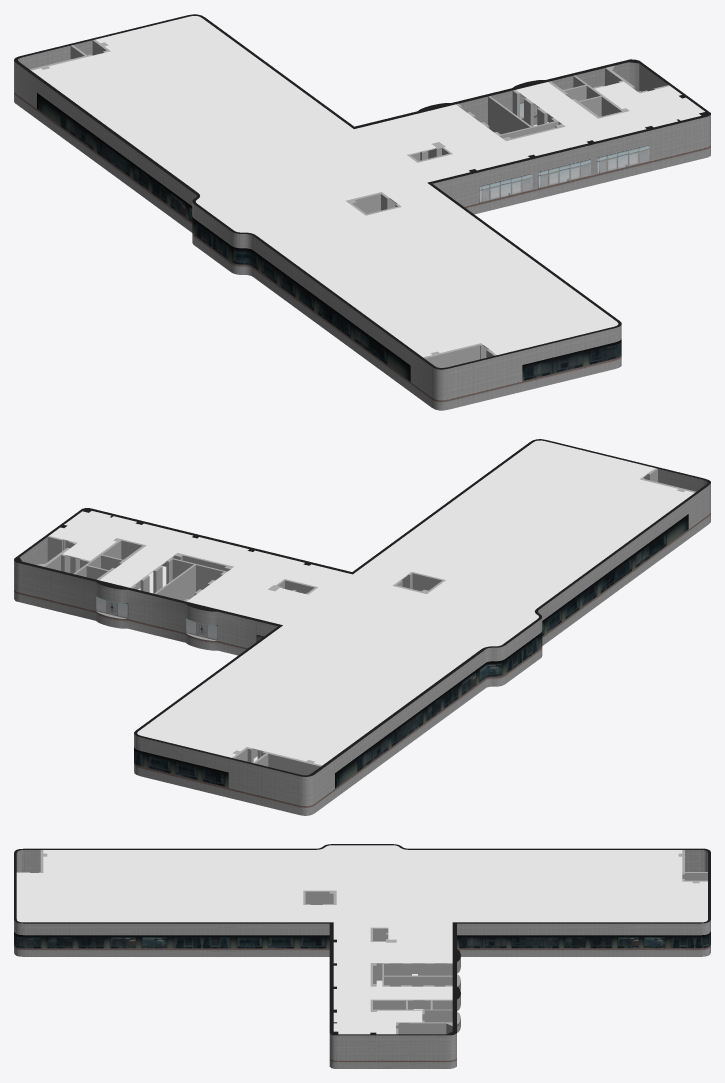
The picture shows the model from 3 angles, top to bottom: view 1: azimuth 30°, elevation 25°; view 2: azimuth 150°, elevation 25°; view 3: azimuth 270°, elevation 25°; orthographic projection. The views are drawn at different scales.
Parts seen in each view (by area): view 1: M_SUNGSIM0001F12F12_ISCL_0000001, M_SUNGSIM0001F12F12_ISWL_0000001, M_SUNGSIM0001F12F12_ISWL_0000002, M_SUNGSIM0001F12F12_ISWD_0000003, M_SUNGSIM0001F12F12_ISWD_0000006, M_SUNGSIM0001F12F12_ISWD_0000005, M_SUNGSIM0001F12F12_ISWD_0000008, M_SUNGSIM0001F12F12_ISWD_0000007; view 2: M_SUNGSIM0001F12F12_ISCL_0000001, M_SUNGSIM0001F12F12_ISWL_0000001, M_SUNGSIM0001F12F12_ISWL_0000002, M_SUNGSIM0001F12F12_ISWD_0000003, M_SUNGSIM0001F12F12_ISWD_0000006; view 3: M_SUNGSIM0001F12F12_ISCL_0000001, M_SUNGSIM0001F12F12_ISWL_0000001, M_SUNGSIM0001F12F12_ISWD_0000006, M_SUNGSIM0001F12F12_ISWL_0000002.
Boxes of the visible parts, box(x1,y1,x2,y2) form: M_SUNGSIM0001F12F12_ISCL_0000001: box(31, 16, 704, 357); M_SUNGSIM0001F12F12_ISWL_0000001: box(14, 14, 710, 410); M_SUNGSIM0001F12F12_ISWL_0000002: box(30, 39, 669, 367); M_SUNGSIM0001F12F12_ISWD_0000003: box(37, 93, 410, 381); M_SUNGSIM0001F12F12_ISWD_0000006: box(522, 339, 621, 381); M_SUNGSIM0001F12F12_ISWD_0000005: box(479, 174, 532, 202); M_SUNGSIM0001F12F12_ISWD_0000008: box(538, 159, 590, 188); M_SUNGSIM0001F12F12_ISWD_0000007: box(597, 145, 649, 174); M_SUNGSIM0001F12F12_ISCL_0000001: box(49, 440, 694, 765); M_SUNGSIM0001F12F12_ISWL_0000001: box(14, 439, 710, 815); M_SUNGSIM0001F12F12_ISWL_0000002: box(35, 468, 695, 775); M_SUNGSIM0001F12F12_ISWD_0000003: box(335, 514, 688, 788); M_SUNGSIM0001F12F12_ISWD_0000006: box(134, 747, 228, 787); M_SUNGSIM0001F12F12_ISCL_0000001: box(16, 845, 707, 1034); M_SUNGSIM0001F12F12_ISWL_0000001: box(14, 844, 710, 1068); M_SUNGSIM0001F12F12_ISWD_0000006: box(14, 931, 710, 948); M_SUNGSIM0001F12F12_ISWL_0000002: box(16, 850, 707, 1034).
Size of the model in its own units: 49.14 by 4 by 75.62.
7 materials, 7 textured.
